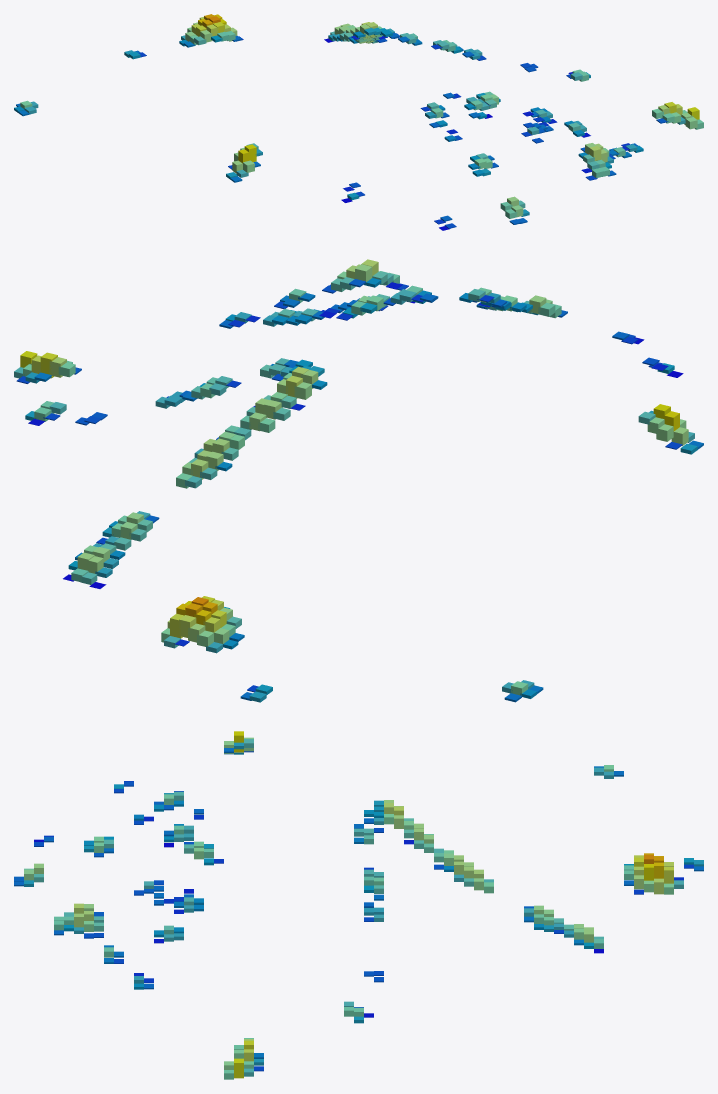
Rendered from population.glb.
3 views of the same model, one above another, from view 1: azimuth 30°, elevation 25°; view 2: azimuth 150°, elevation 25°; view 3: azimuth 270°, elevation 25° (orthographic). The views are drawn at different scales.
Parts seen in each view (by area): view 1: population; view 2: population; view 3: population.
Part boxes in pixels (x1,y1,x2,y2): population: (14, 14, 703, 230); population: (14, 259, 703, 702); population: (14, 731, 703, 1079).
Size of the model in its own units: 6816 by 1430 by 6877.
